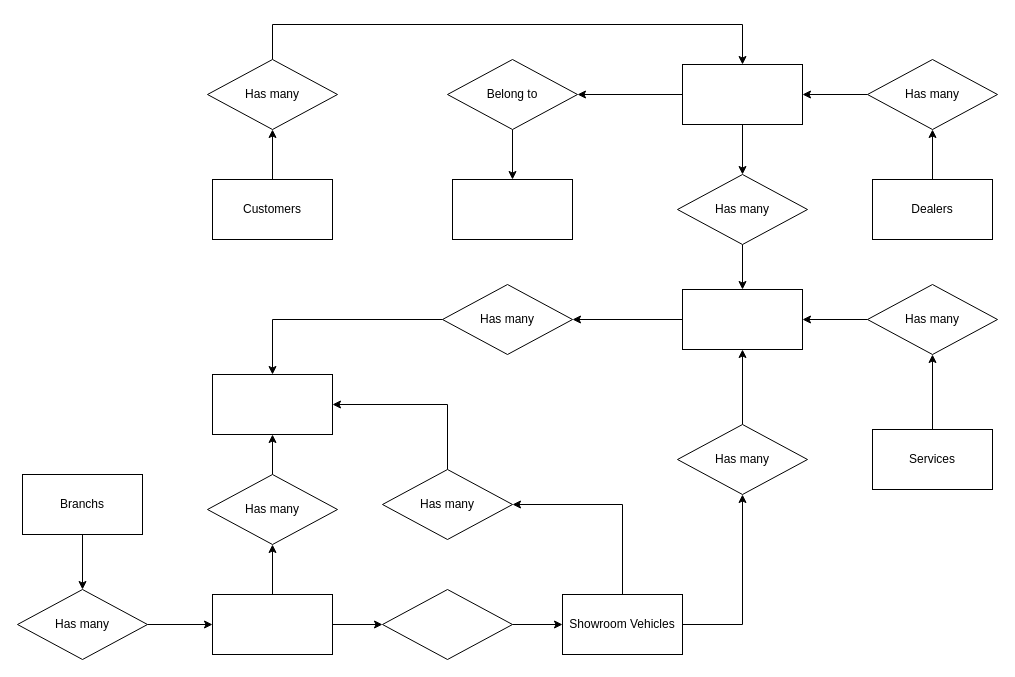
This 1015x677 diagram has some shape labels left out. The shapes that lost their labels are listed below. From the top down, each one's centre as x and y in pixels, then its label:
At point (742, 94): "Orders".
At point (512, 209): "Status Orders".
At point (742, 319): "Order Details".
At point (272, 404): "Warehouse Vehicles".
At point (272, 624): "Vehicles".
At point (447, 624): "Has one".
